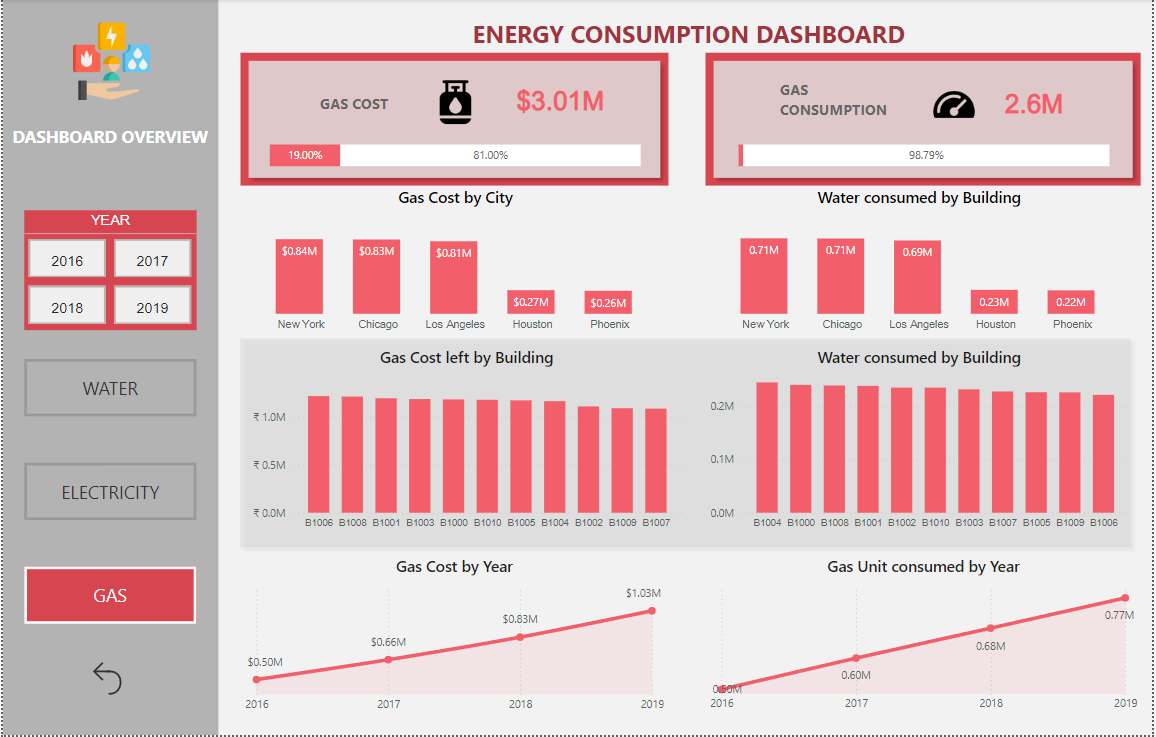

What the dashboard file says about the page in this screenshot:
{"tool":"powerbi","page":{"name":"GAS","canvas":[1280,820],"ordinal":3},"visuals":[{"type":"shape","title":"Total Cost","box":[782.9,60.4,484.9,148.3],"z":0},{"type":"shape","title":"Total Cost","box":[265.1,60.4,476.6,148.3],"z":1000},{"type":"shape","box":[254.8,368.9,1010.7,250.6],"z":2000},{"type":"shape","box":[0,0,240.4,820],"z":3000},{"type":"image","box":[66.3,15.7,108.5,108.5],"z":4000},{"type":"areaChart","fields":{"Category":["Energy Consumptions.Year"],"Y":["All Measures.Gas Cost"]},"box":[265.1,619.5,476.6,184.1],"z":5000},{"type":"areaChart","fields":{"Category":["Energy Consumptions.Year"],"Y":["All Measures.Gas Unit consumed"]},"box":[782.4,619.5,485.9,183.8],"z":6000},{"type":"columnChart","fields":{"Category":["Energy Consumptions.Building"],"Y":["All Measures.Gas Cost left"]},"box":[272.9,387,487.3,214.4],"z":7000},{"type":"clusteredColumnChart","title":"Water consumed by Building","fields":{"Category":["Energy Consumptions.Building"],"Y":["All Measures.Gas Unit consumed"]},"box":[782.4,387,476.1,214.4],"z":8000},{"type":"columnChart","fields":{"Category":["Building Master.City"],"Y":["All Measures.Gas Cost"]},"box":[264.5,208.8,478.9,172],"z":9000},{"type":"clusteredColumnChart","title":"Water consumed by Building","fields":{"Category":["Building Master.City"],"Y":["All Measures.Gas Unit consumed"]},"box":[782.4,208.8,476.1,172],"z":10000},{"type":"card","fields":{"Values":["All Measures.Gas Cost"]},"box":[501.2,75.2,239.5,76.6],"z":11000},{"type":"card","fields":{"Values":["All Measures.Gas Unit consumed"]},"box":[1028.8,78,239.5,76.6],"z":12000},{"type":"hundredPercentStackedBarChart","fields":{"Y":["All Measures.Gas Cost","All Measures.Gas Cost left"]},"box":[292.4,116.9,423.2,108.6],"z":13000},{"type":"hundredPercentStackedBarChart","fields":{"Y":["All Measures.Gas Unit consumed","All Measures.Gas Unit consumed left"]},"box":[814.4,116.9,423.2,108.6],"z":14000},{"type":"textbox","box":[348,100.2,185.2,45.9],"z":15000},{"type":"textbox","box":[860.4,84.9,187.9,64],"z":16000},{"type":"textbox","box":[548.7,15.3,433.1,62.7],"z":17000},{"type":"textbox","box":[5.6,135,235.3,69.6],"z":18000},{"type":"image","box":[474.7,84.9,58.5,59.9],"z":19000},{"type":"image","box":[1028.8,86.3,61.3,62.6],"z":20000},{"type":"actionButton","box":[23.2,401.1,191.8,63.9],"z":21000},{"type":"actionButton","box":[23.2,516.9,191.8,63.9],"z":22000},{"type":"actionButton","box":[23.2,632.7,191.8,63.9],"z":23000},{"type":"actionButton","box":[91.9,732.3,64,48.7],"z":24000},{"type":"advancedSlicerVisual","title":"YEAR","fields":{"Values":["Energy Consumptions.Year"]},"box":[23.7,235.3,192.1,133.7],"z":25000}]}

Visuals, with their boxes in screenshot pixels (x1, y1, x2, y2), scaled from the page's 1280x820 canvas onto the 1156x737 screenshot:
"Total Cost" shape: 707,54,1145,188
"Total Cost" shape: 239,54,670,188
shape: 230,332,1143,557
shape: 0,0,217,736
image: 60,14,158,112
areaChart - Energy Consumptions.Year x All Measures.Gas Cost: 239,557,670,722
areaChart - Energy Consumptions.Year x All Measures.Gas Unit consumed: 707,557,1145,722
columnChart - Energy Consumptions.Building x All Measures.Gas Cost left: 246,348,687,541
"Water consumed by Building" clusteredColumnChart: 707,348,1137,541
columnChart - Building Master.City x All Measures.Gas Cost: 239,188,671,342
"Water consumed by Building" clusteredColumnChart: 707,188,1137,342
card - All Measures.Gas Cost: 453,68,669,136
card - All Measures.Gas Unit consumed: 929,70,1145,139
hundredPercentStackedBarChart - All Measures.Gas Cost x All Measures.Gas Cost left: 264,105,646,203
hundredPercentStackedBarChart - All Measures.Gas Unit consumed x All Measures.Gas Unit consumed left: 736,105,1118,203
textbox: 314,90,482,131
textbox: 777,76,947,134
textbox: 496,14,887,70
textbox: 5,121,218,184
image: 429,76,482,130
image: 929,78,984,134
actionButton: 21,361,194,418
actionButton: 21,465,194,522
actionButton: 21,569,194,626
actionButton: 83,658,141,702
"YEAR" advancedSlicerVisual: 21,211,195,332
